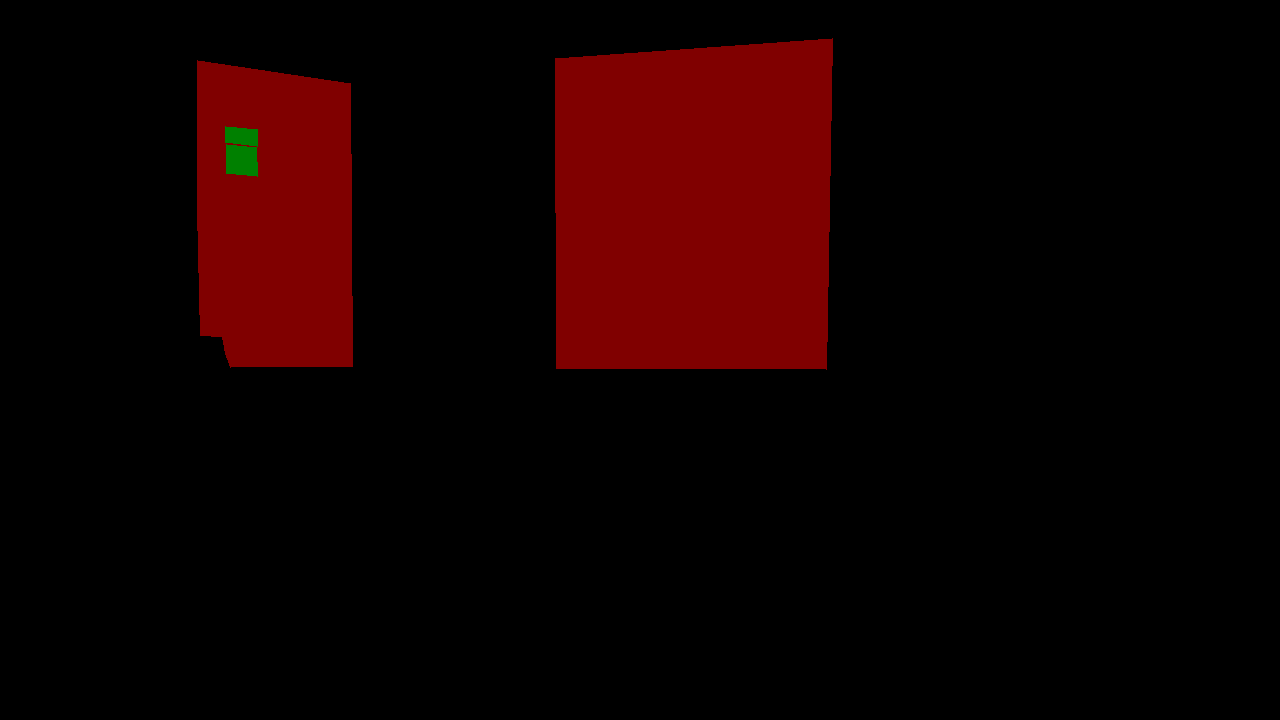door: (555, 38, 832, 369), (197, 60, 352, 367)
sign: (226, 144, 257, 176), (225, 126, 257, 146)
